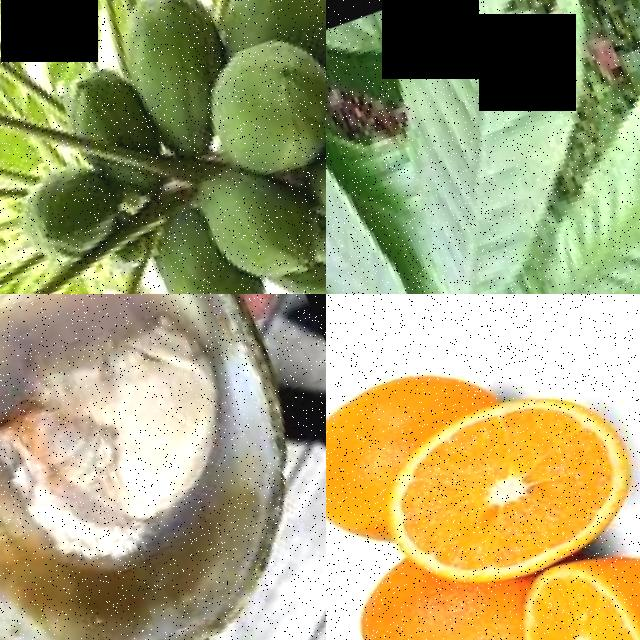orange: (367, 347, 640, 614), (326, 313, 503, 503), (495, 499, 640, 640), (348, 544, 546, 640)
oysters: (0, 294, 326, 640)
pawpaw: (193, 4, 326, 186), (192, 139, 326, 294), (104, 0, 245, 121), (5, 145, 135, 275), (52, 46, 163, 175), (136, 191, 260, 294), (204, 0, 326, 58)
